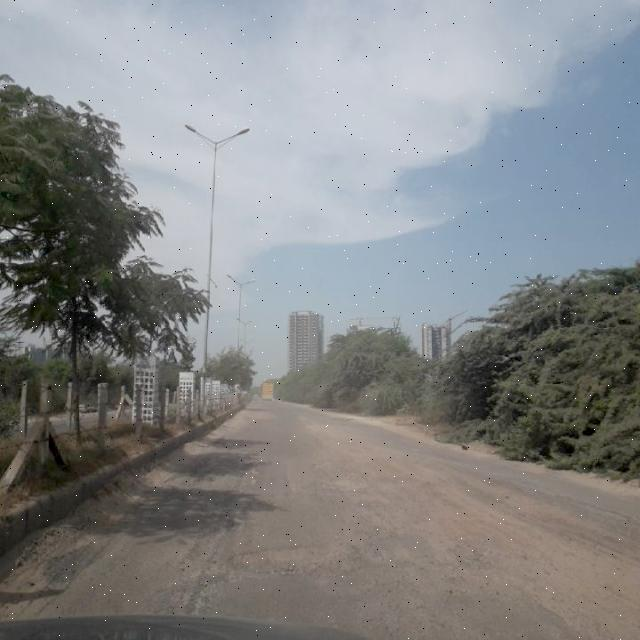D40: (398, 482, 574, 586), (217, 530, 384, 586), (204, 443, 266, 528)
